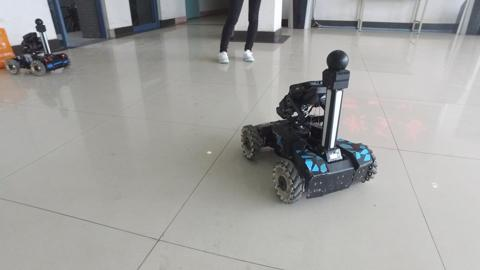chariot: (238, 48, 379, 204), (4, 17, 71, 76)
